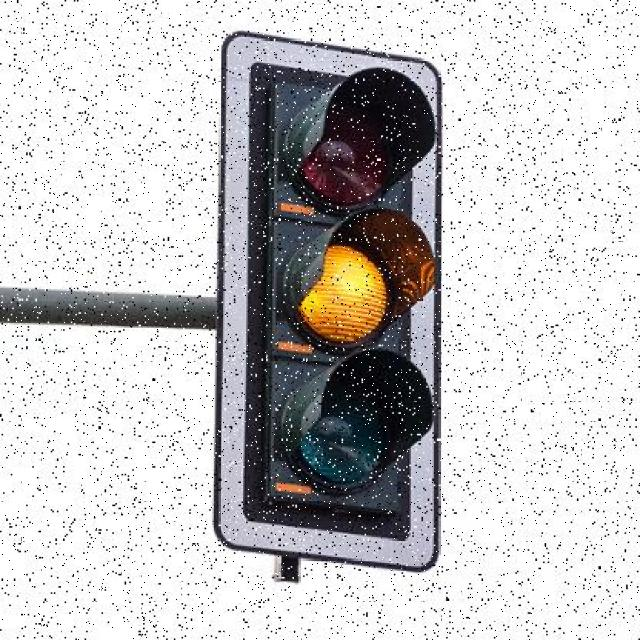yellow-light: (217, 27, 459, 568)
